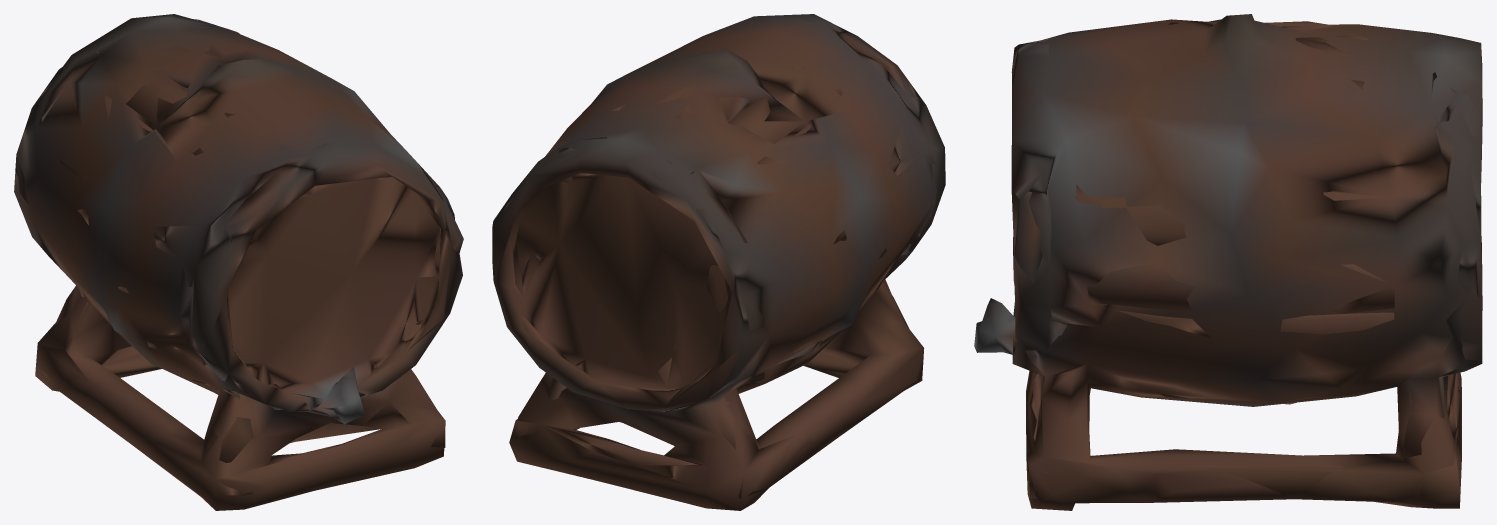
File: gen3d-wine-barrel-lod0.glb
The picture shows the model from 3 angles, left to right: view 1: azimuth 30°, elevation 25°; view 2: azimuth 150°, elevation 25°; view 3: azimuth 270°, elevation 25°; orthographic projection. The views are drawn at different scales.
Parts seen in each view (by area): view 1: part_0; view 2: part_0; view 3: part_0.
Boxes of the visible parts, bbox=[...] form: part_0: bbox=[14, 14, 463, 510]; part_0: bbox=[492, 14, 945, 510]; part_0: bbox=[974, 14, 1482, 510].
Bounding box in the file's own units: 0.8222 × 1 × 1.07.
